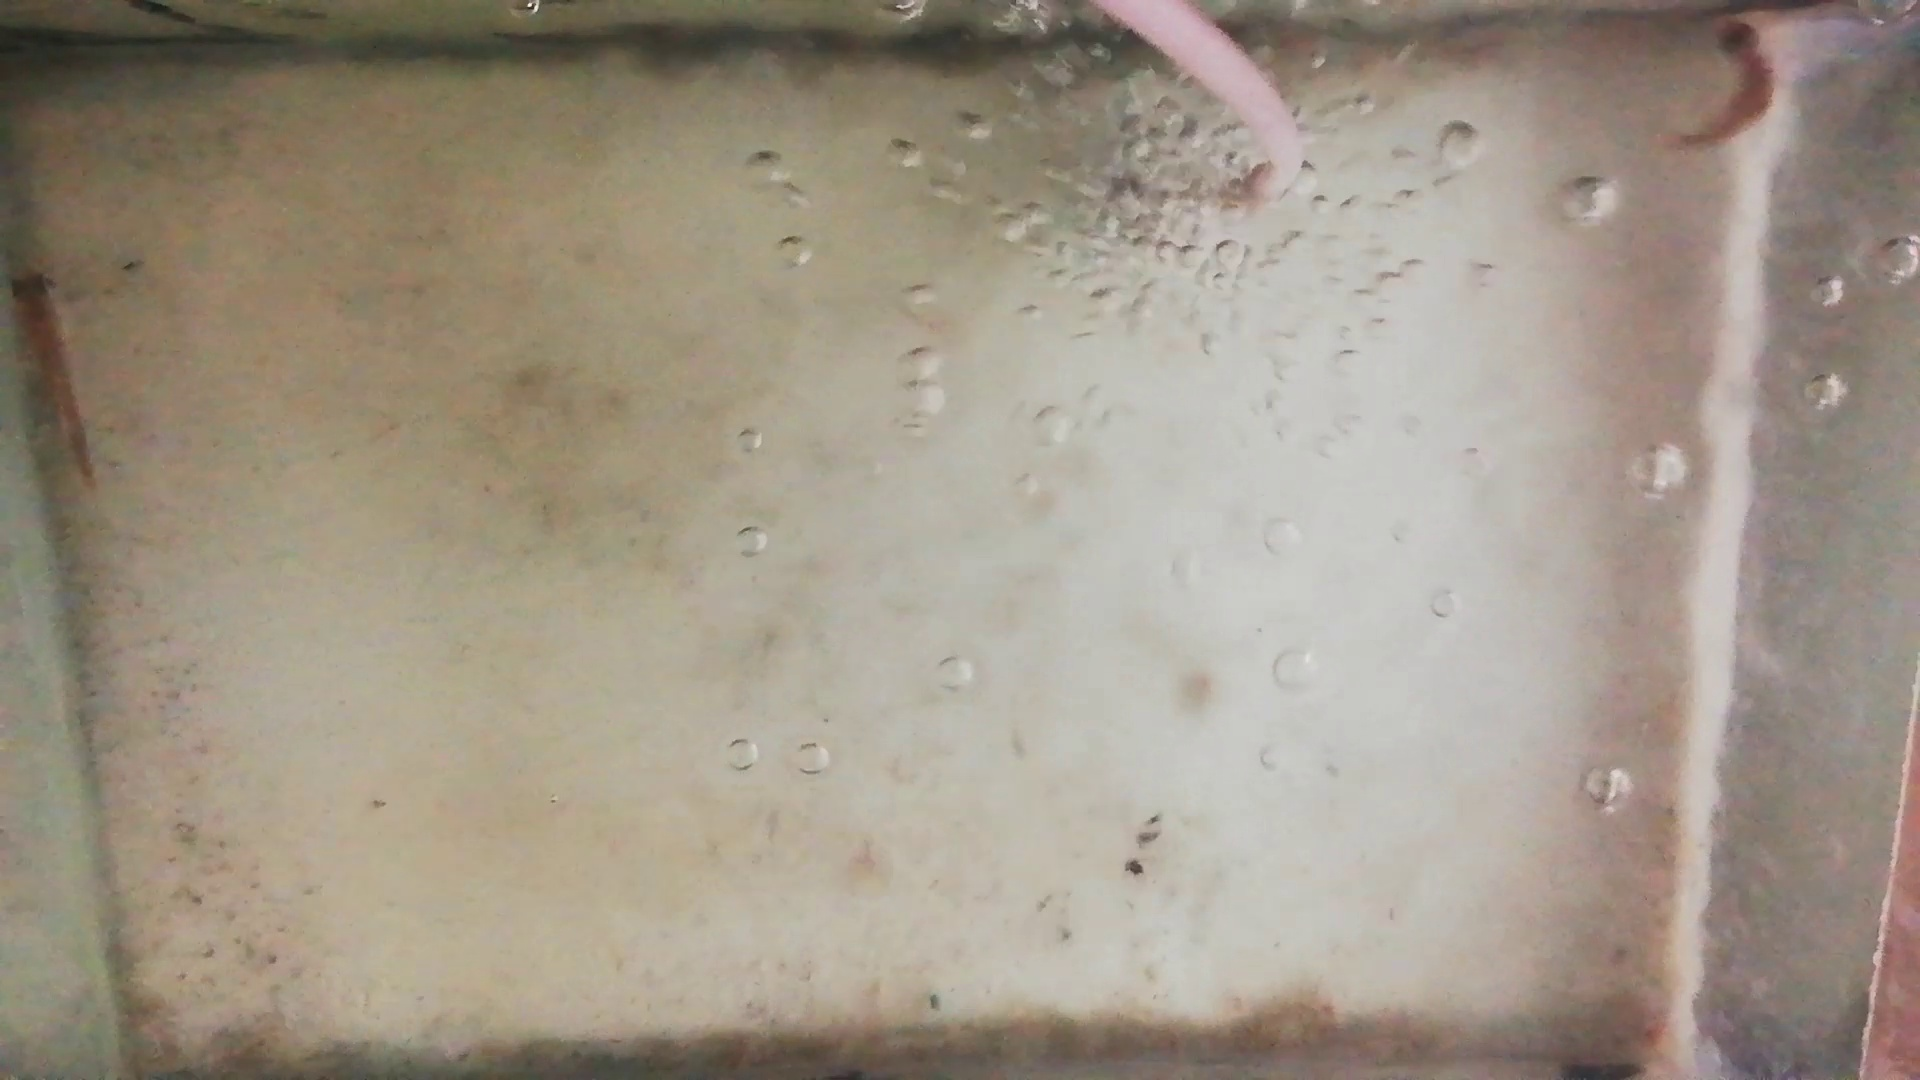fish: (11, 268, 98, 483), (1662, 17, 1778, 156)
